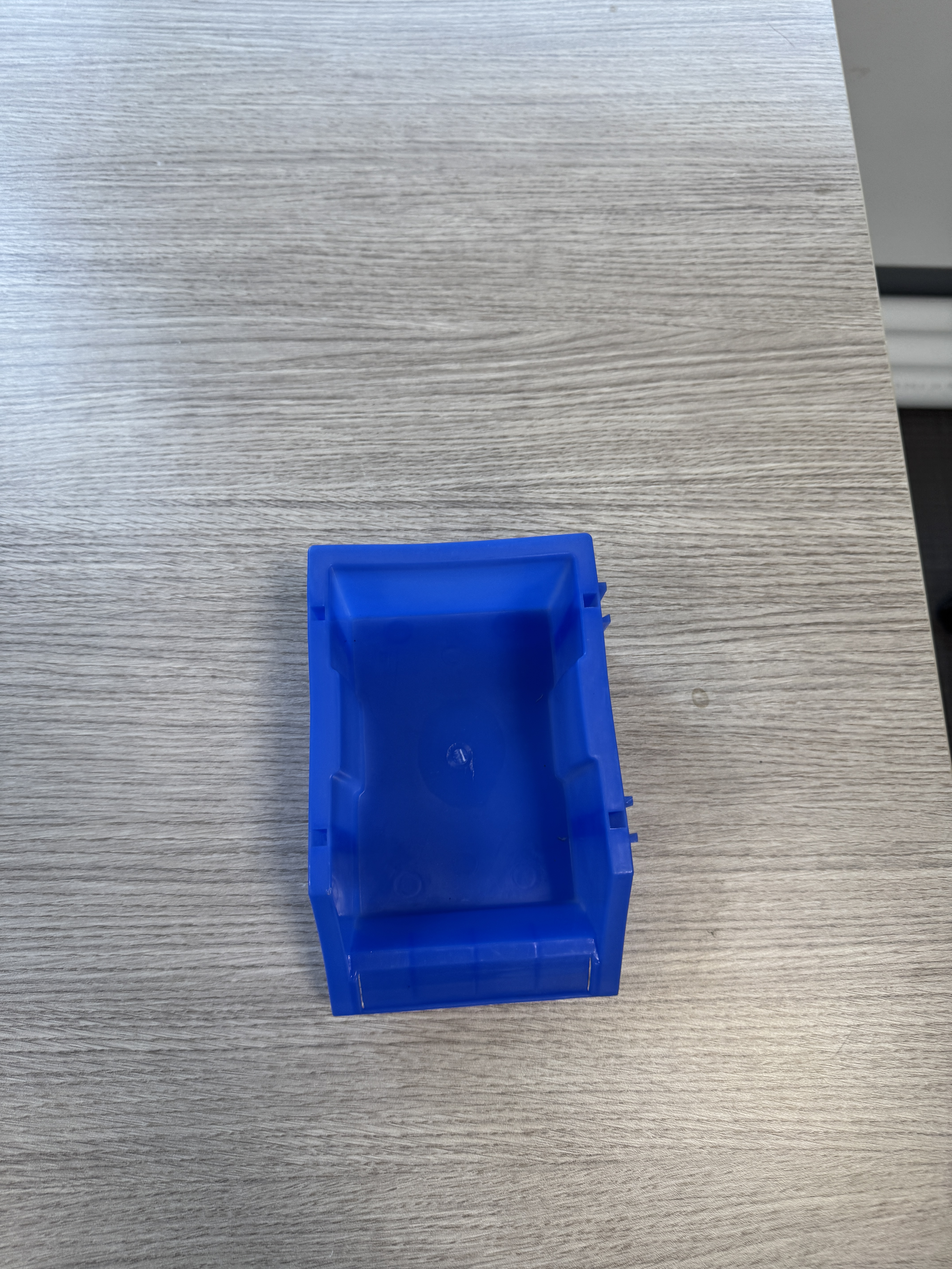Bin Boundary: (318, 558, 612, 950)
